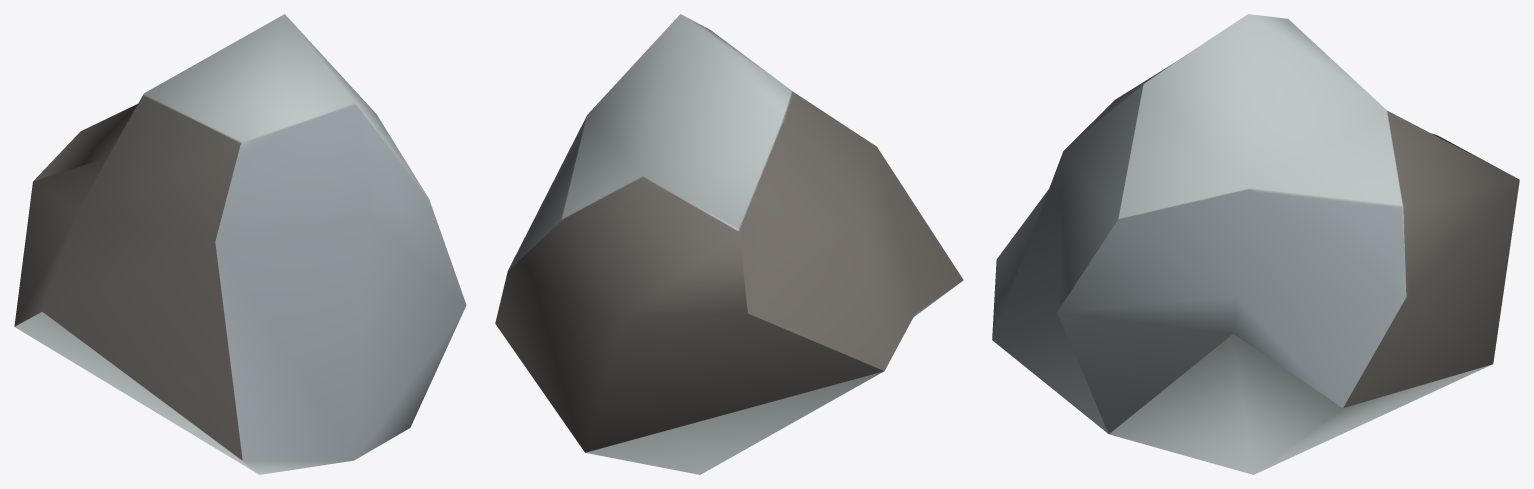
The model's file is stone_02.fbx.
3 views of the same model, side by side, from view 1: azimuth 30°, elevation 25°; view 2: azimuth 150°, elevation 25°; view 3: azimuth 270°, elevation 25° (orthographic). The views are drawn at different scales.
Parts seen in each view (by area): view 1: pCube1; view 2: pCube1; view 3: pCube1.
Boxes of the visible parts, bbox=[...] form: pCube1: bbox=[14, 14, 466, 474]; pCube1: bbox=[495, 14, 963, 474]; pCube1: bbox=[992, 14, 1519, 474].
Bounding box in the file's own units: 1.13 × 1.3 × 1.31.
